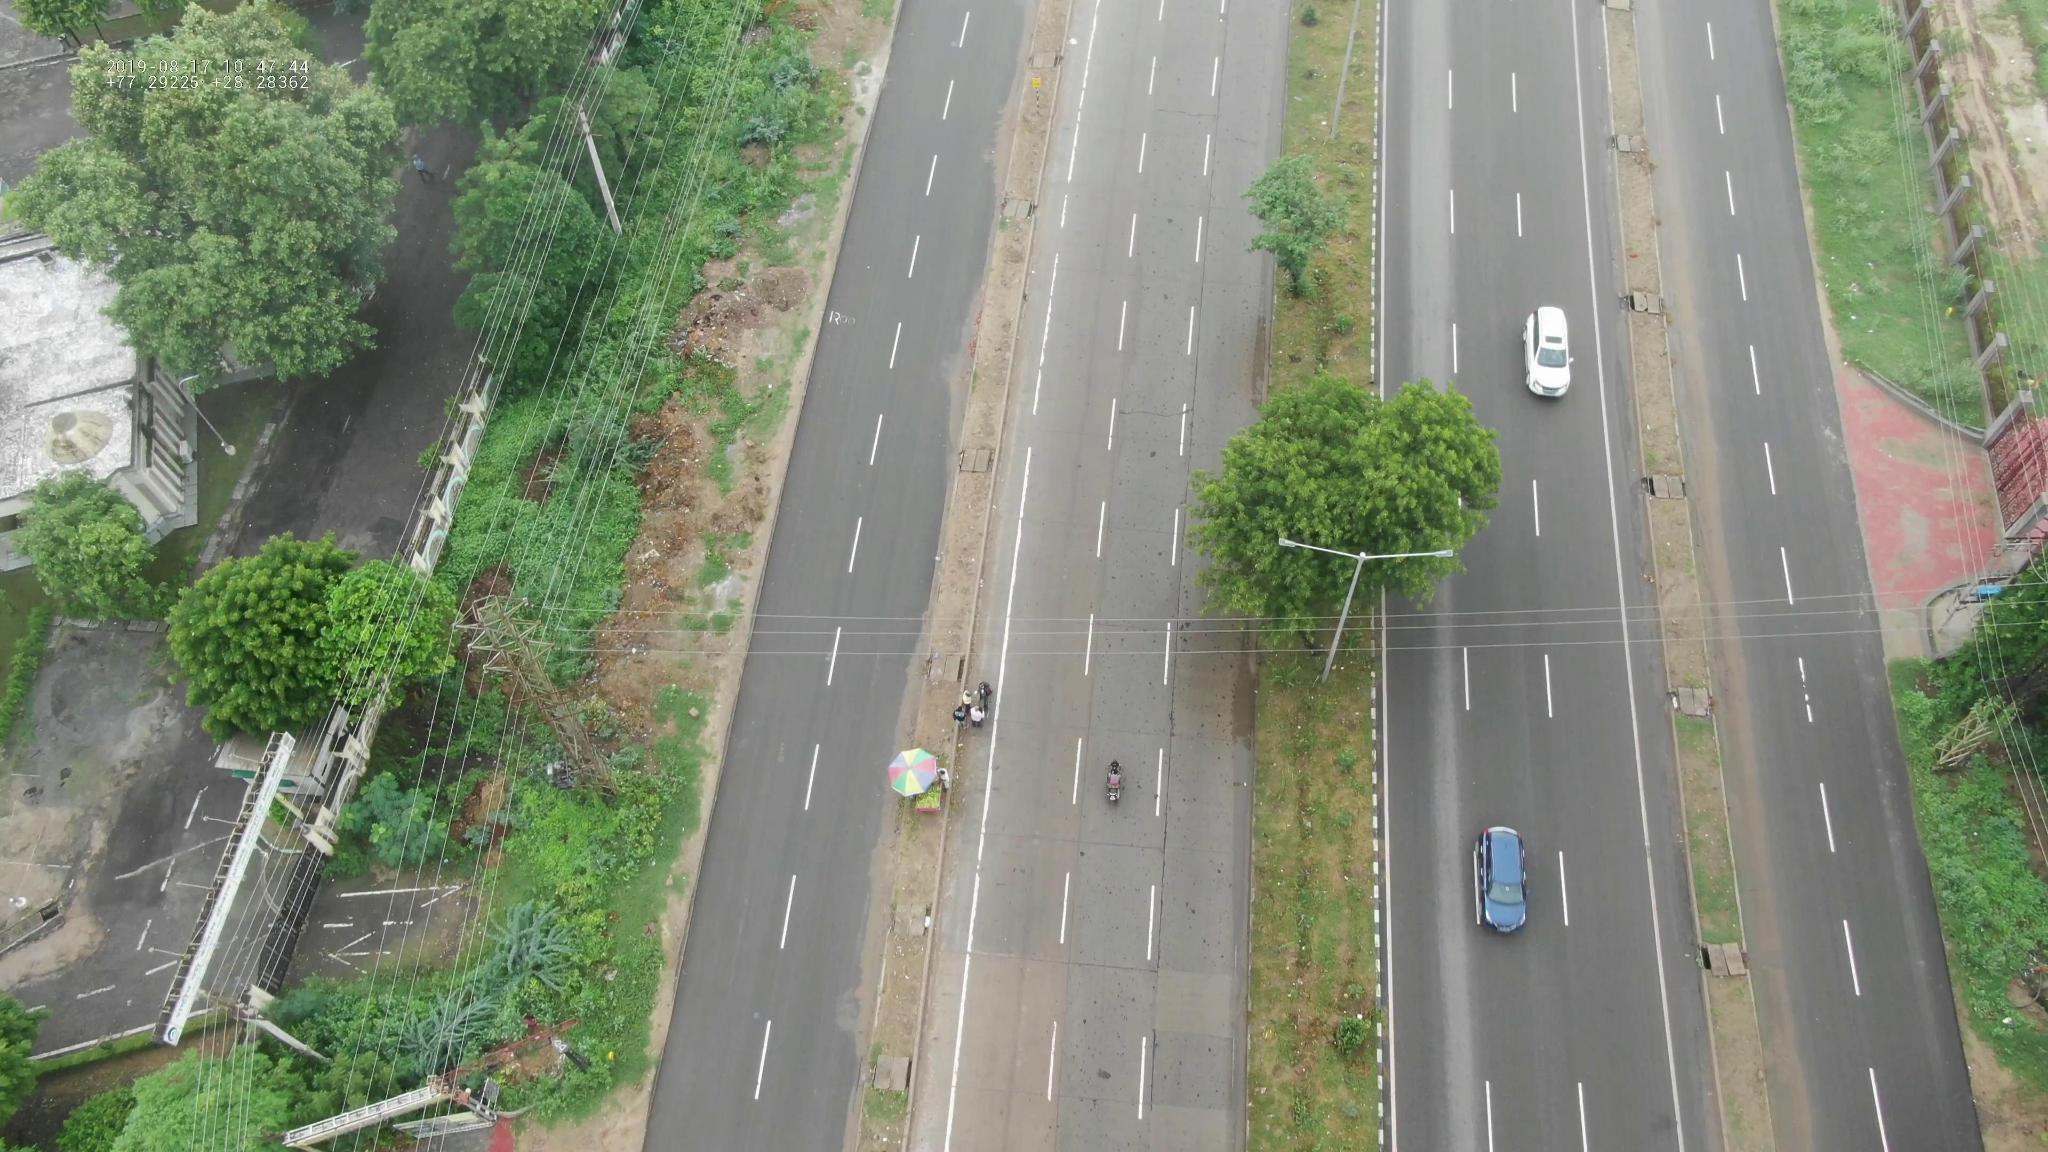Muddy_road: (1248, 307, 1270, 411), (1685, 366, 1710, 429), (1695, 481, 1720, 543)
